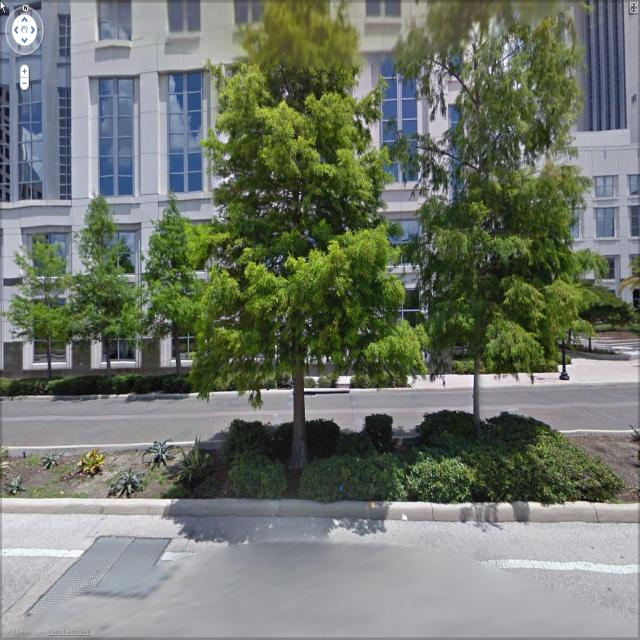b_2: (78, 1, 514, 373), (519, 7, 640, 340), (0, 5, 72, 346)
